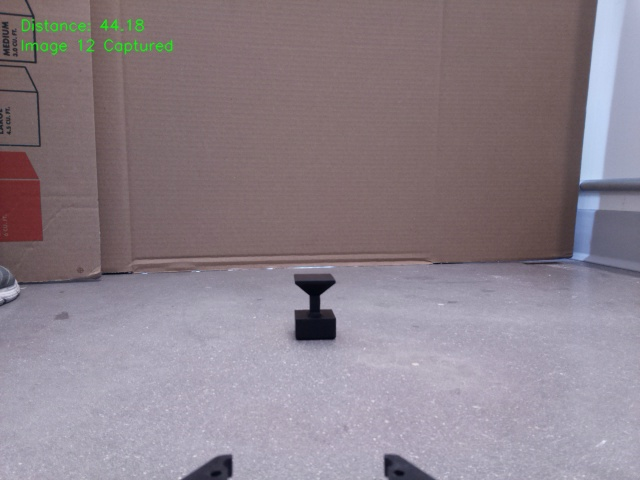block: (293, 272, 338, 341)
